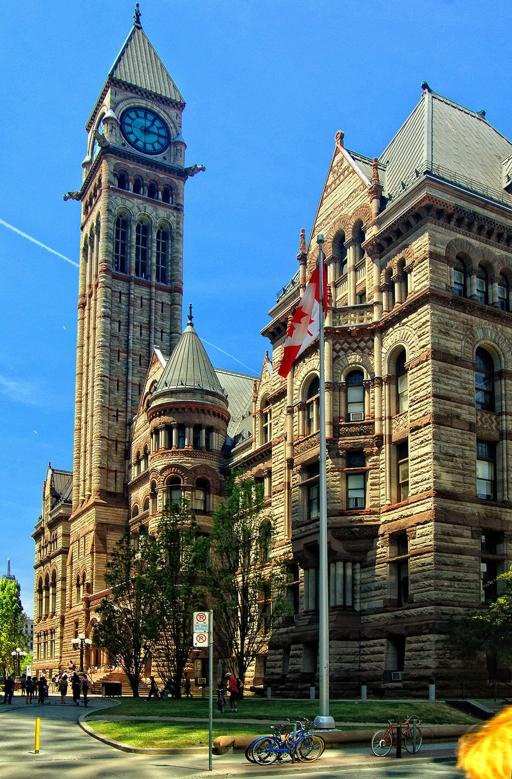non-vehicle: (241, 717, 328, 764), (254, 718, 322, 765), (369, 712, 425, 757), (213, 687, 227, 714)
